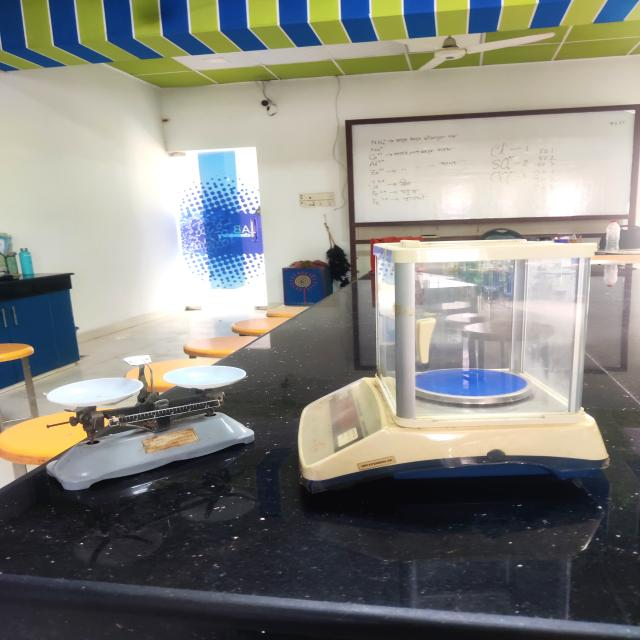Mechanical_Balance_Scale: (23, 332, 271, 538)
Precision_Weight_Scale: (288, 221, 627, 510)
